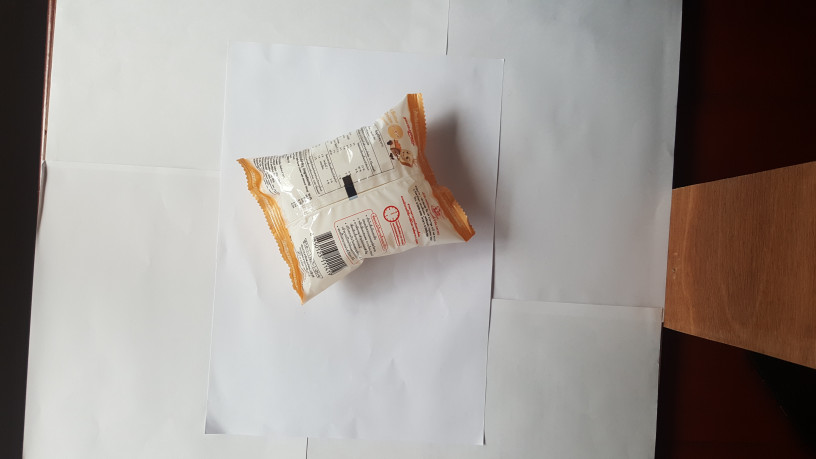farmhouse-sweetsandwich-almond: (229, 88, 479, 309)
